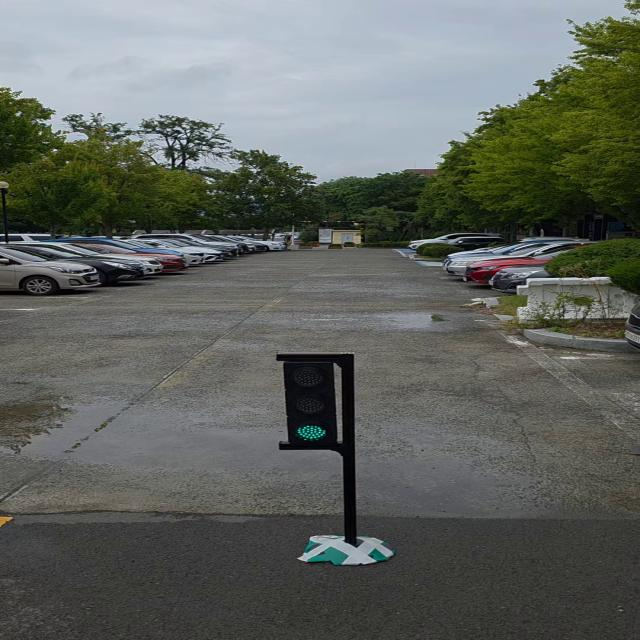green: (283, 355, 354, 447)
